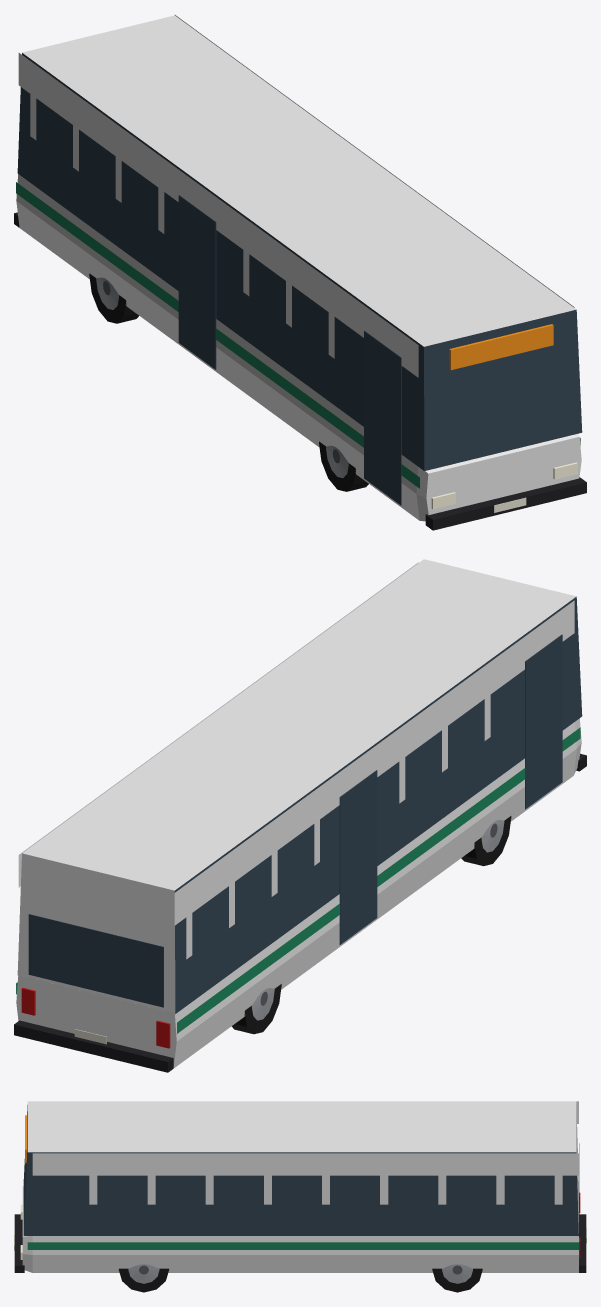
File: bus.glb
3 views of the same model, one above another, from view 1: azimuth 30°, elevation 25°; view 2: azimuth 150°, elevation 25°; view 3: azimuth 270°, elevation 25° (orthographic). The views are drawn at different scales.
Visible parts, largest first — view 1: Body, Wheel_RR, Wheel_FR; view 2: Body, Wheel_RR, Wheel_FR; view 3: Body, Wheel_RL, Wheel_FL.
Boxes of the visible parts, box(x1,y1,x2,y2) form: Body: box(14, 15, 586, 530); Wheel_RR: box(89, 273, 138, 323); Wheel_FR: box(319, 441, 368, 491); Body: box(14, 559, 586, 1072); Wheel_RR: box(231, 984, 281, 1034); Wheel_FR: box(461, 816, 511, 866); Body: box(14, 1101, 586, 1272); Wheel_RL: box(432, 1264, 482, 1292); Wheel_FL: box(118, 1264, 169, 1292).
Size of the model in its own units: 2.51 by 3.05 by 11.33.
Materials: 4 (3 with a texture image).
